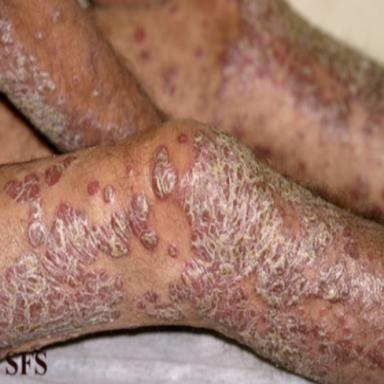Psoriasis: (131, 129, 384, 382), (0, 176, 156, 346), (212, 2, 384, 151), (0, 15, 133, 151), (307, 176, 384, 220), (45, 155, 77, 185), (161, 62, 179, 94), (139, 45, 152, 67), (103, 185, 115, 203), (168, 241, 179, 258), (52, 4, 62, 22), (88, 180, 100, 195), (134, 27, 145, 43), (125, 160, 134, 176), (35, 31, 45, 41), (71, 75, 80, 84)
